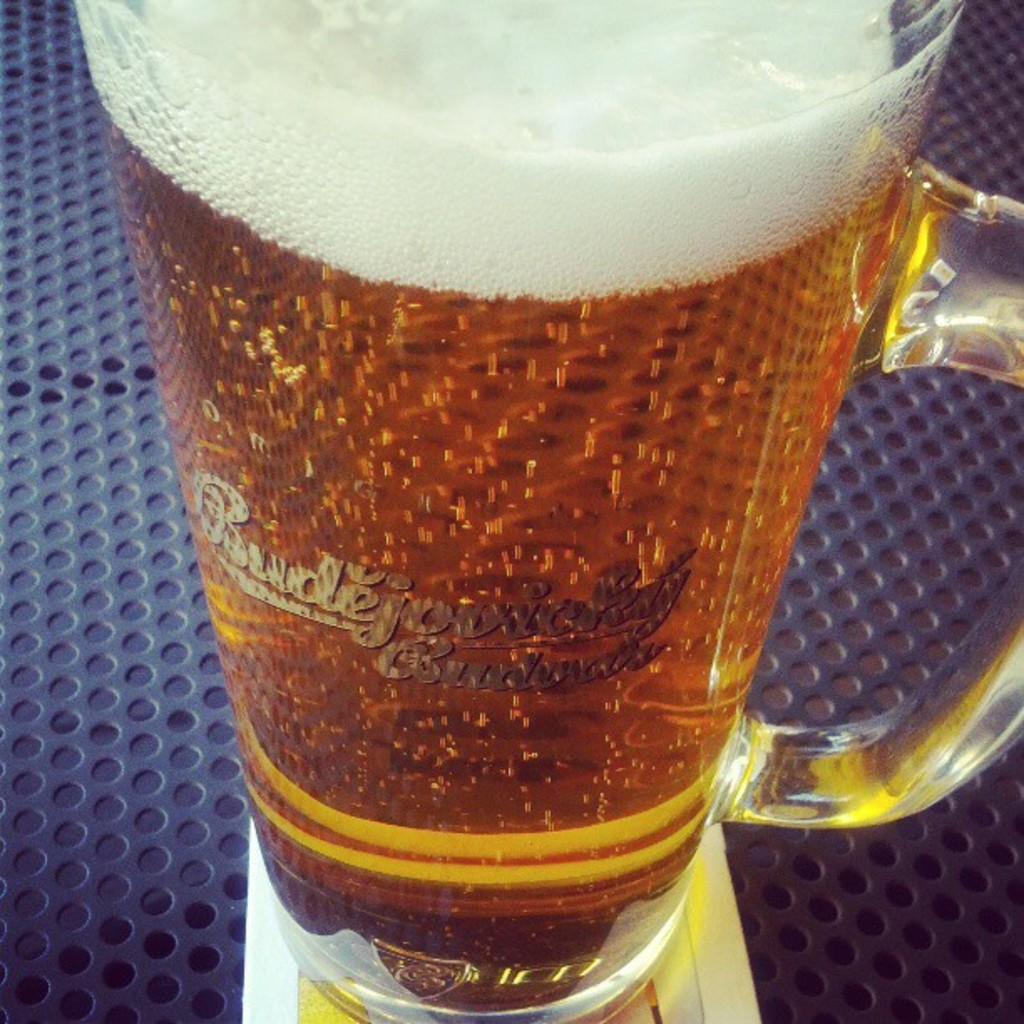Beer: (71, 0, 978, 1022)
